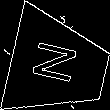N_E: (30, 41, 87, 91)
